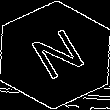N_SE: (21, 23, 89, 87)
